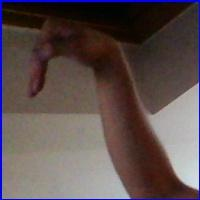A: (22, 16, 120, 101)
